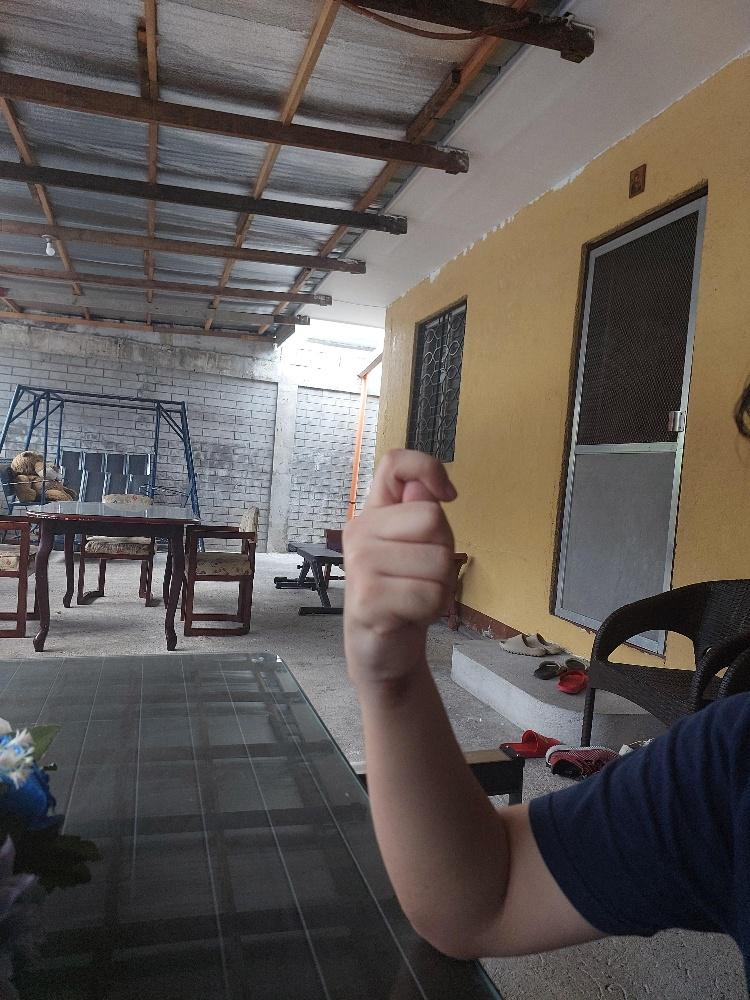t: (339, 444, 462, 686)
